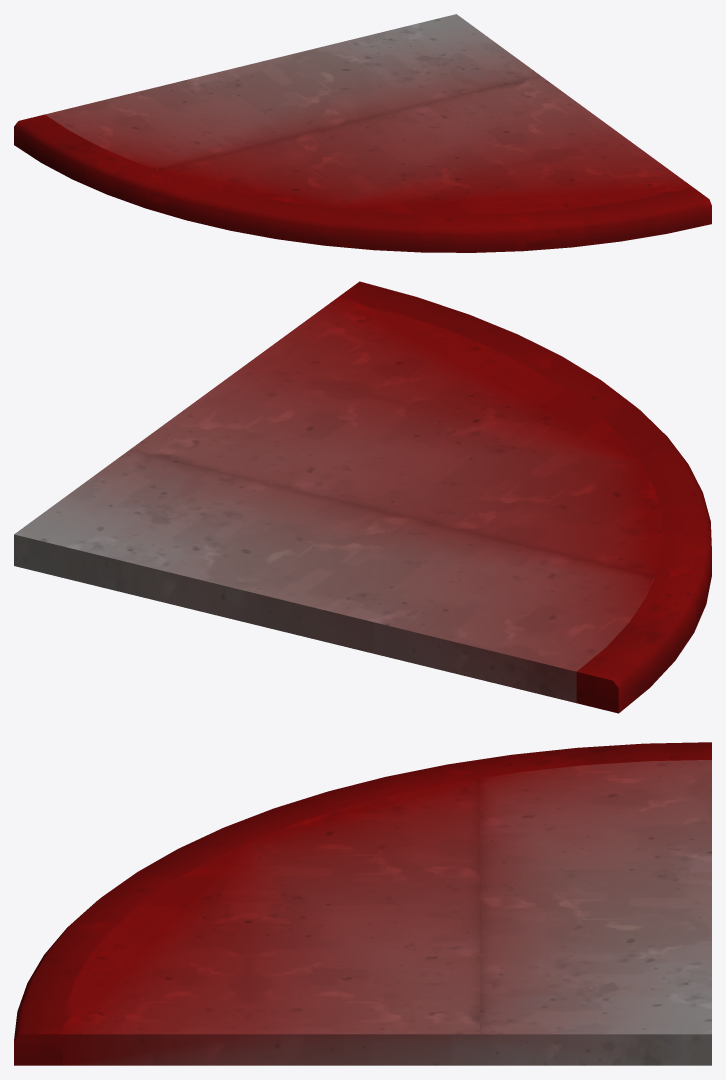
File: Sidewalk_Corner_Round_3m.glb
3 views of the same model, one above another, from view 1: azimuth 30°, elevation 25°; view 2: azimuth 150°, elevation 25°; view 3: azimuth 270°, elevation 25° (orthographic). The views are drawn at different scales.
Visible parts, largest first — view 1: Sidewalk_Corner_Round_3m; view 2: Sidewalk_Corner_Round_3m; view 3: Sidewalk_Corner_Round_3m.
Part boxes in pixels (box(x1,y1,x2,y2)): Sidewalk_Corner_Round_3m: box(14, 14, 711, 252); Sidewalk_Corner_Round_3m: box(14, 281, 711, 713); Sidewalk_Corner_Round_3m: box(14, 742, 711, 1065).
Size of the model in its own units: 3.01 by 0.1499 by 3.01.
Materials: 1 (1 with a texture image).
